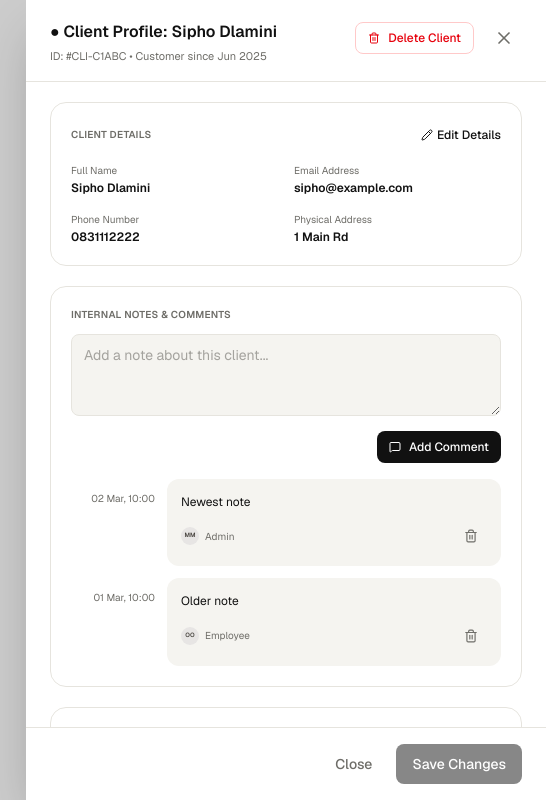
Test: editing details › cancels back to read-only
This screenshot has width=546, height=800.
Expected: the heading "● Client Profile: Sipho Dlamini" is shown, [50,20,277,44]
Click the button "Edit Details". click: (461, 134)
box: [421,122,501,146]
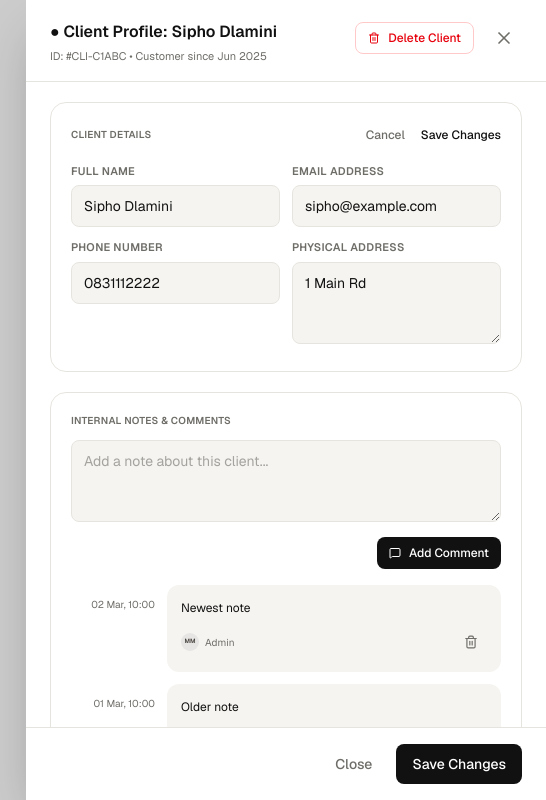
Click the button "Cancel". click: (385, 134)
box: [366,122,405,146]
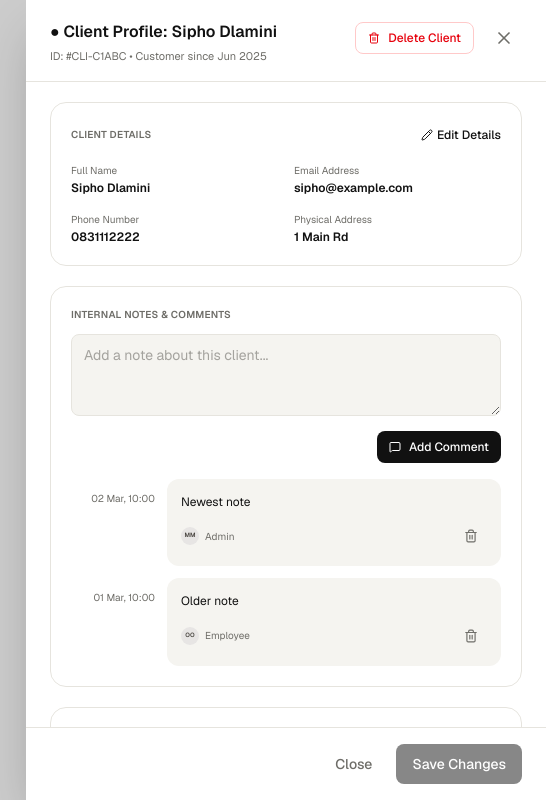
Now the button "Edit Details" is shown, box [421,122,501,146]
